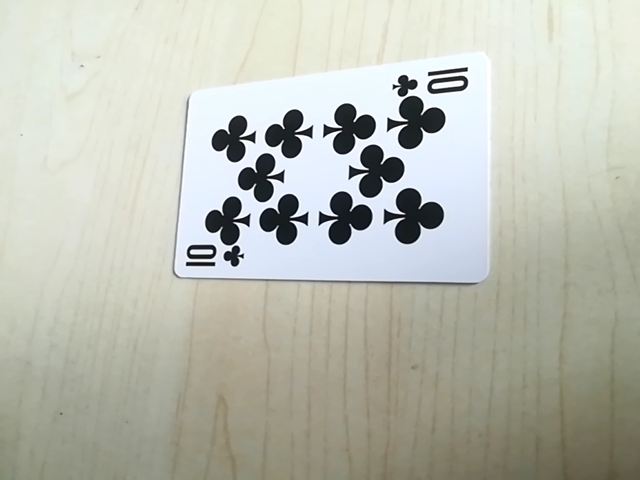mh 10: (389, 61, 474, 101), (179, 241, 245, 277)
